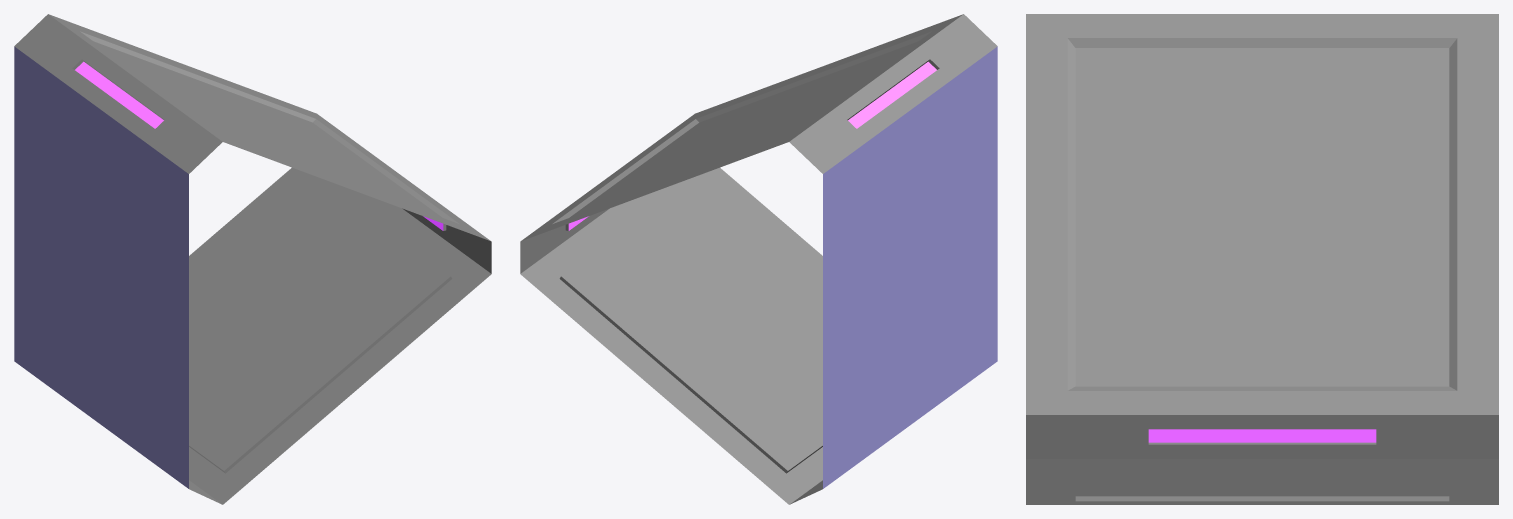
The model's file is SZ_GroundSide.FBX.
The picture shows the model from 3 angles, left to right: view 1: azimuth 30°, elevation 25°; view 2: azimuth 150°, elevation 25°; view 3: azimuth 270°, elevation 25°; orthographic projection. The views are drawn at different scales.
Parts seen in each view (by area): view 1: SZ_GroundSide; view 2: SZ_GroundSide; view 3: SZ_GroundSide.
Boxes of the visible parts, x1,y1,x2,y2 form: SZ_GroundSide: (14,14,491,504); SZ_GroundSide: (520,14,997,504); SZ_GroundSide: (1026,14,1498,504).
Size of the model in its own units: 100 by 100 by 115.
